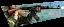gun: (1, 0, 64, 27)
